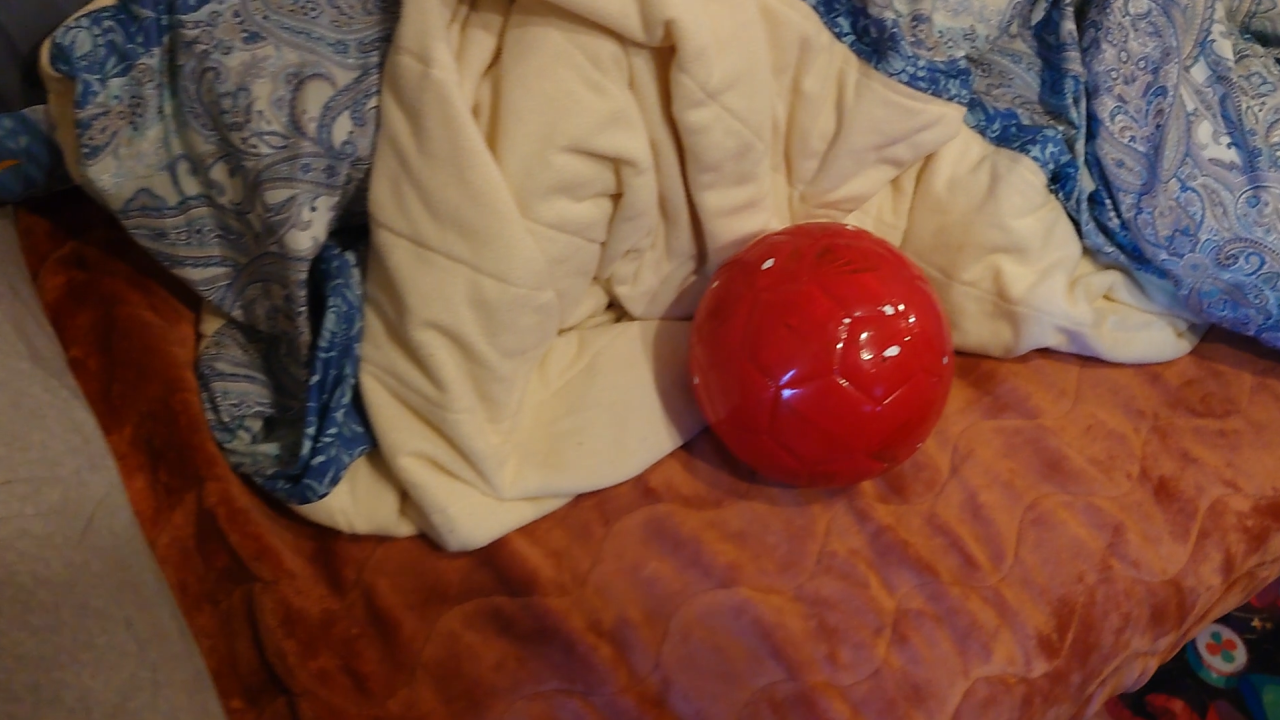red: (689, 223, 953, 487)
